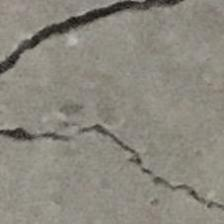Crack: (0, 0, 224, 96), (5, 115, 224, 207)
